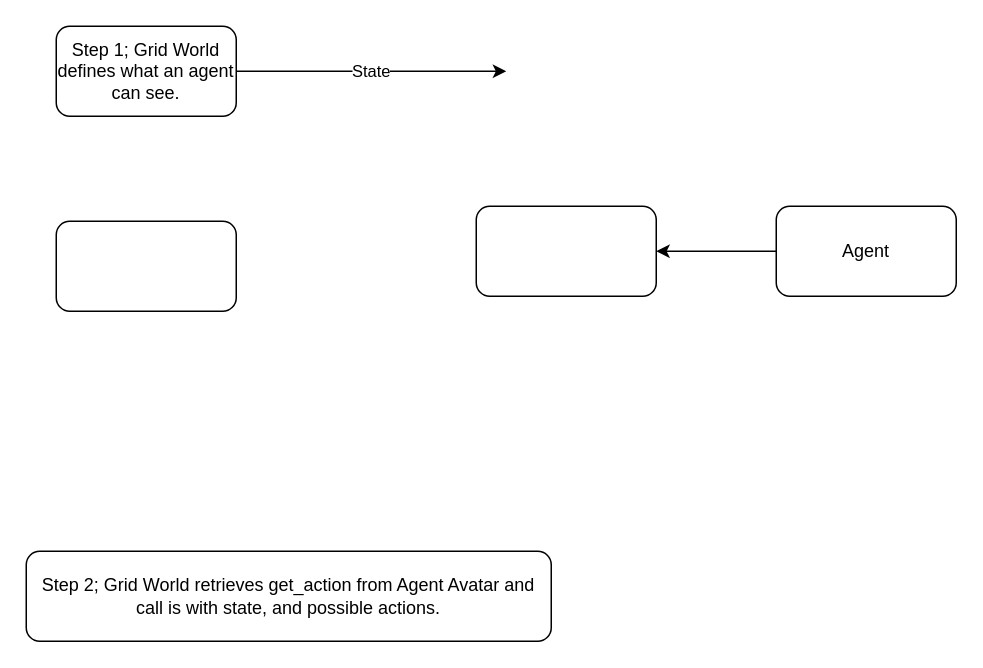
Image size: 983x668. Some labels were removed from this diagram. Here are the shapes that lost their labels. From the top down, the centre of each, then its label:
point 145,265: Step 2; Grid World determines which actions are possible for the agent.
point 565,250: Agent Avatar
